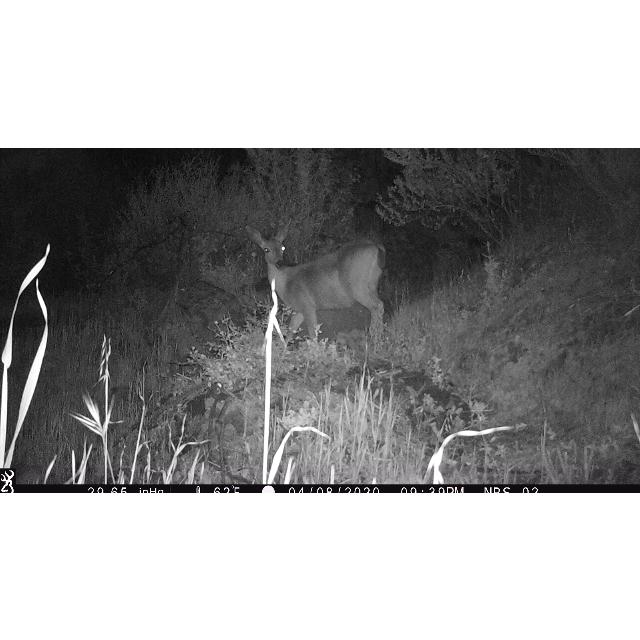animals: (248, 220, 388, 346)
